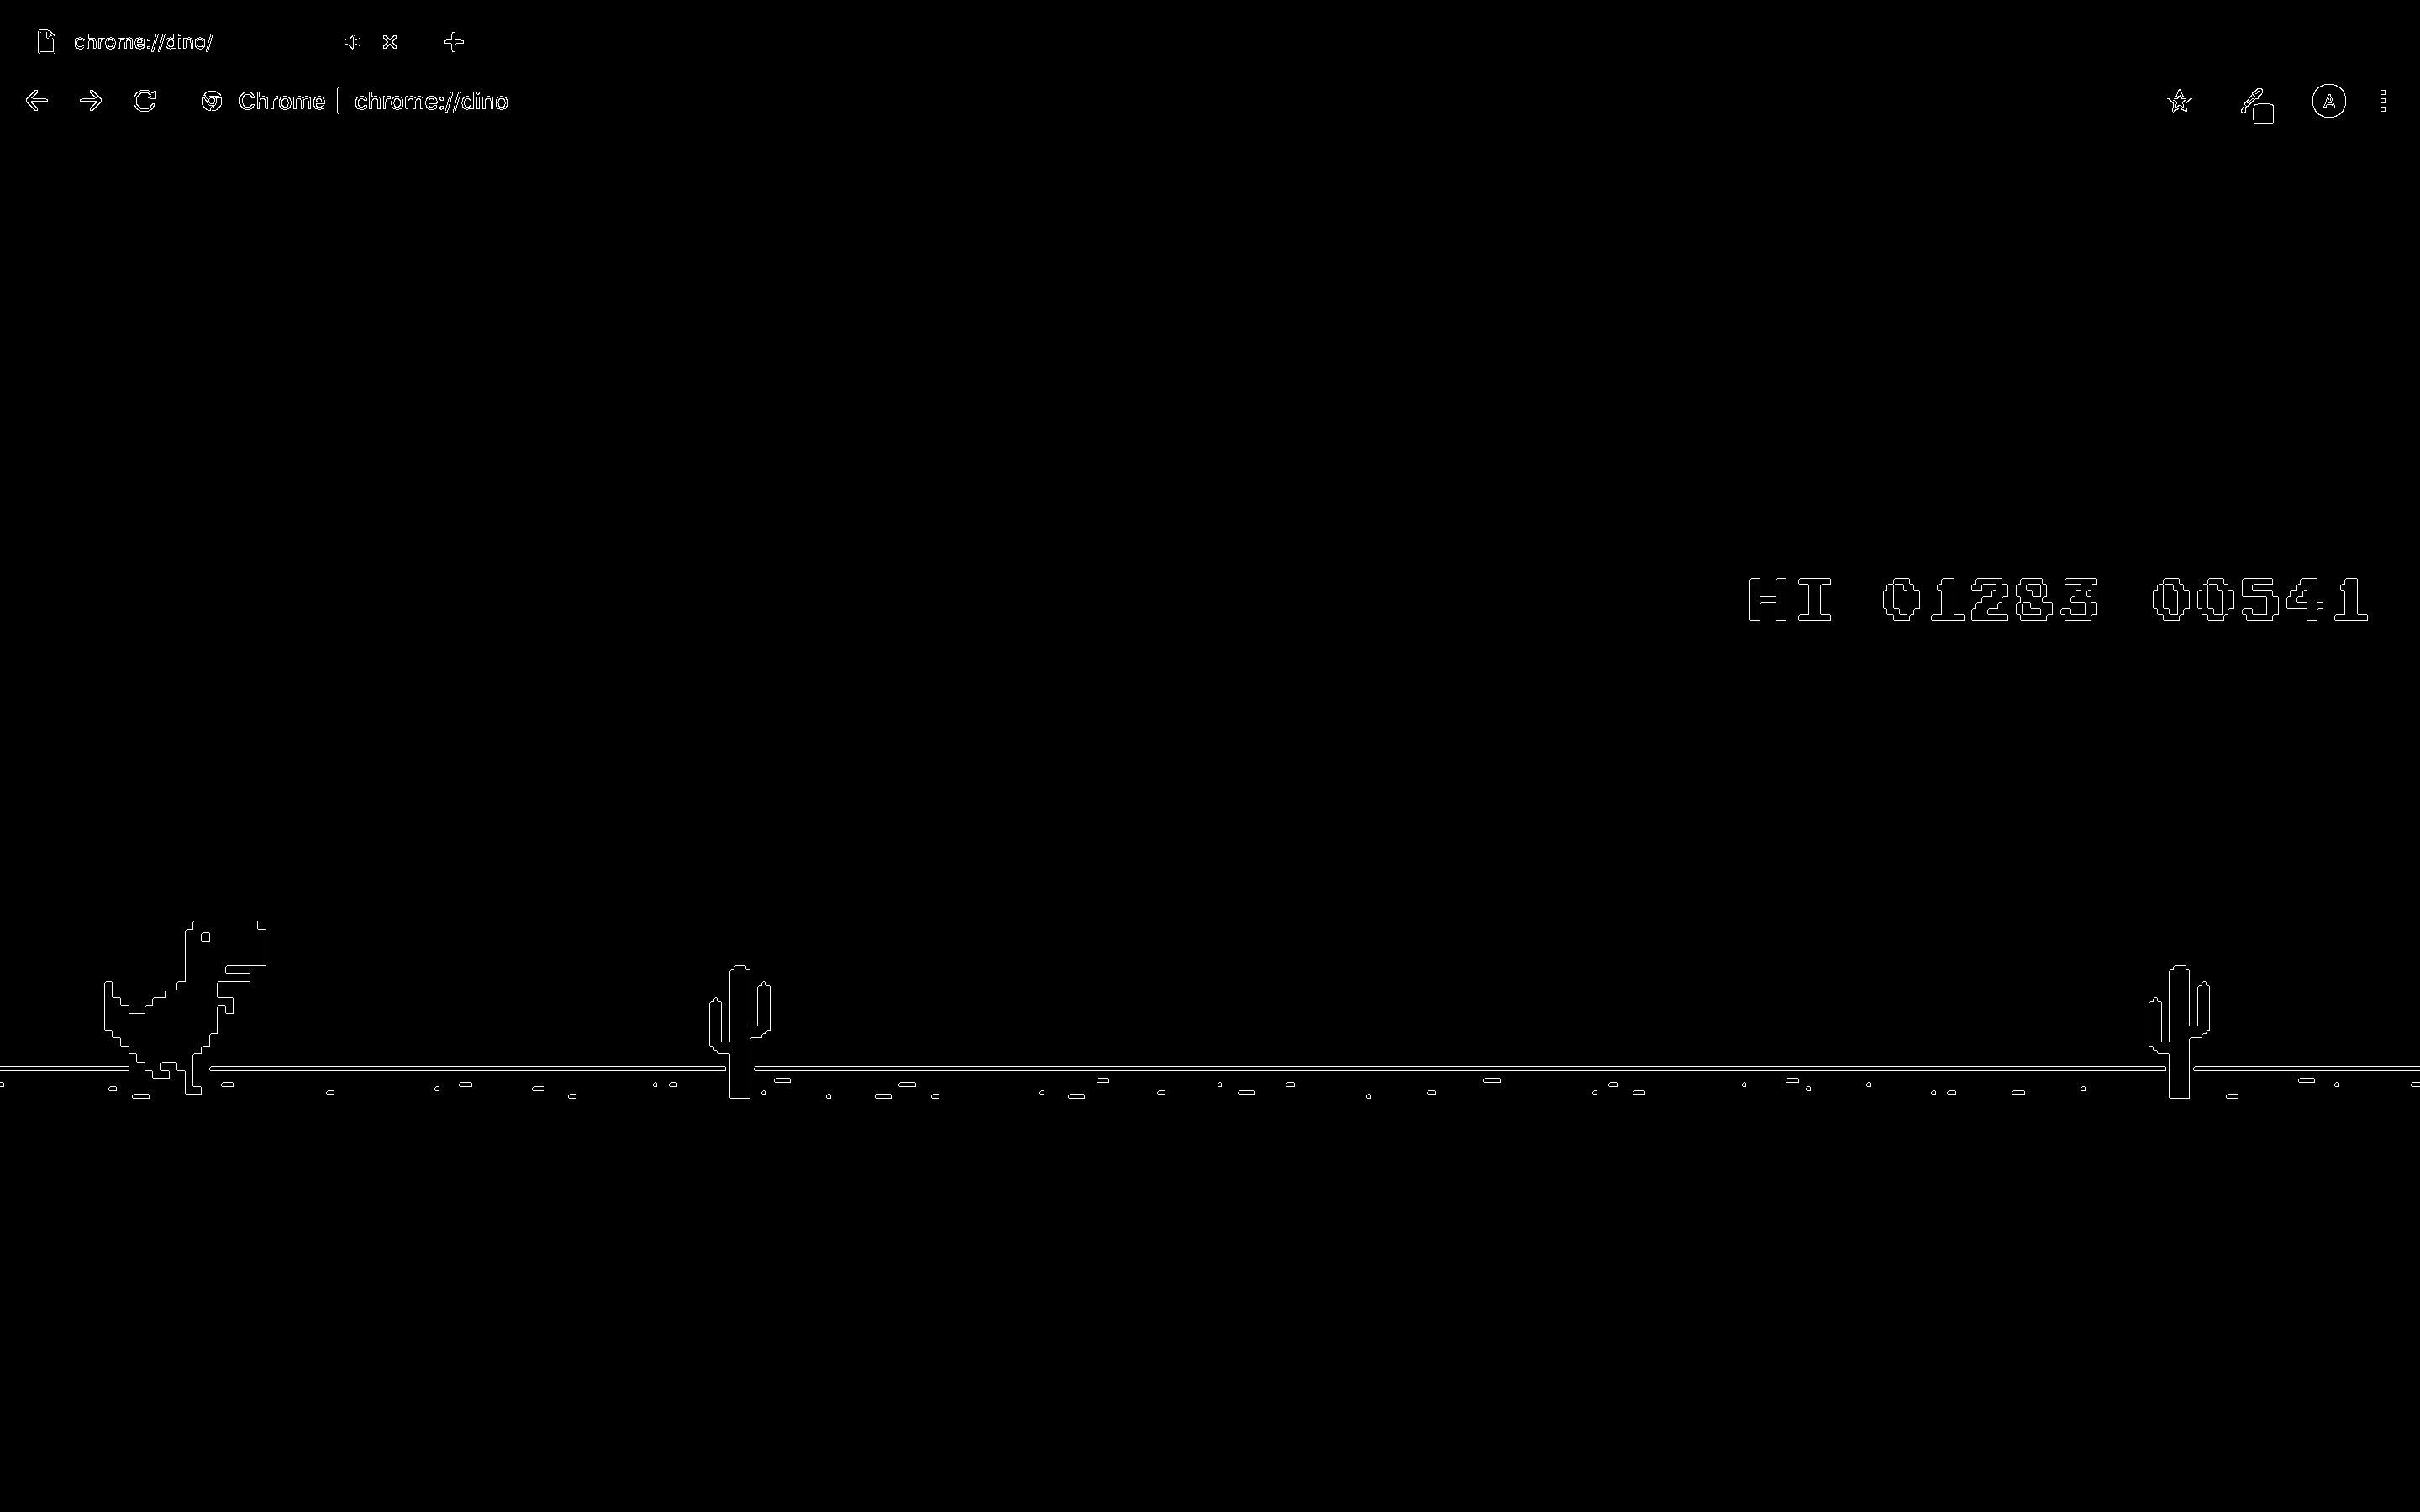Cactus: (699, 963, 782, 1101), (2146, 972, 2220, 1097)
Dino: (103, 918, 274, 1092)
